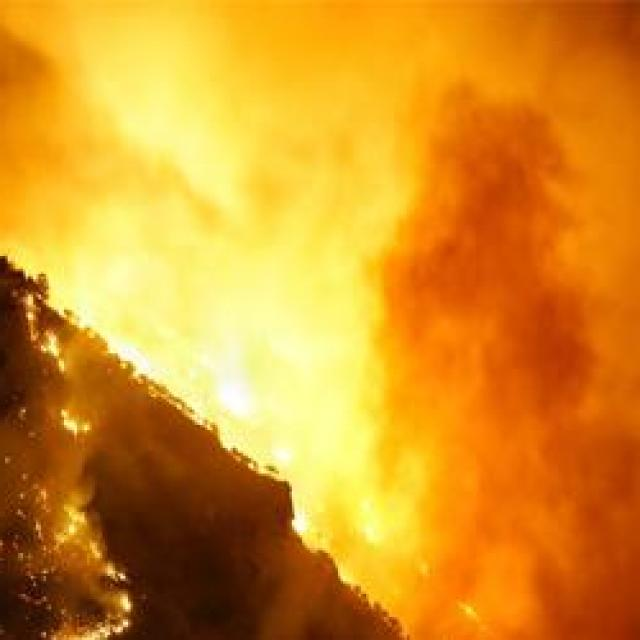fire: (110, 332, 250, 402)
smoke: (362, 78, 608, 407), (412, 363, 640, 640), (0, 14, 166, 257)
